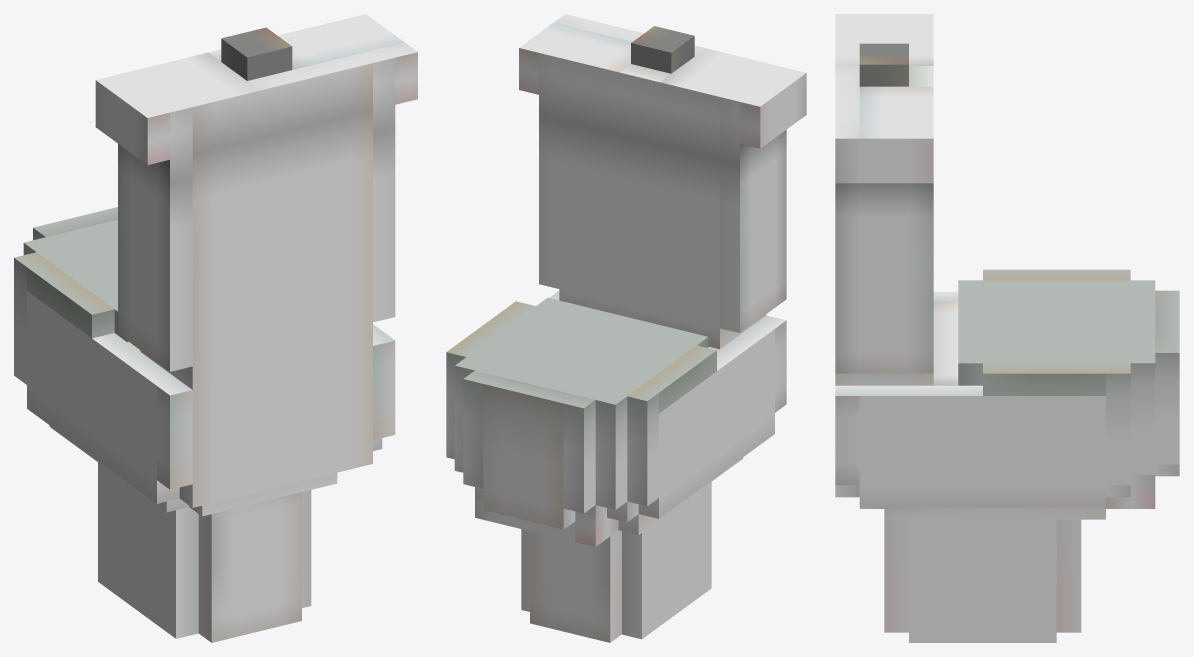
File: Toilet_00.obj
The picture shows the model from 3 angles, left to right: view 1: azimuth 30°, elevation 25°; view 2: azimuth 150°, elevation 25°; view 3: azimuth 270°, elevation 25°; orthographic projection. The views are drawn at different scales.
Parts seen in each view (by area): view 1: Toilet_00; view 2: Toilet_00; view 3: Toilet_00.
Part boxes in pixels (box(x1,y1,x2,y2)): Toilet_00: box(14, 14, 417, 642); Toilet_00: box(446, 14, 806, 642); Toilet_00: box(835, 14, 1179, 642).
Size of the model in its own units: 0.6 by 1.25 by 0.7.
